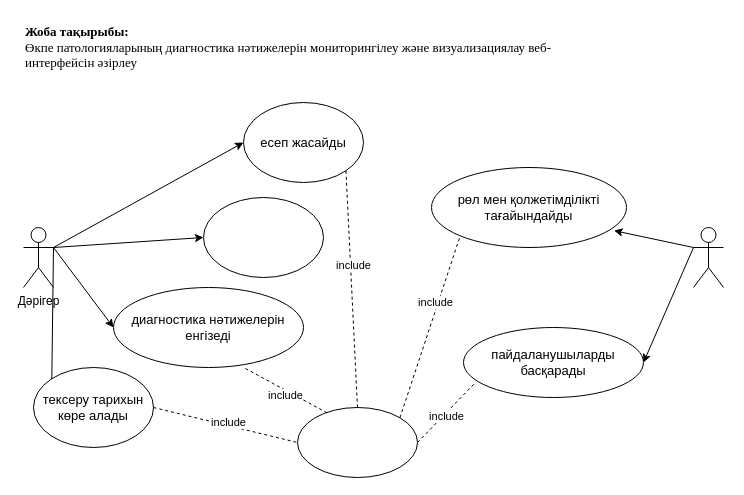
Image size: 744x495. Some labels were removed from this diagram. The box of each missing label's shape, as (x1, y1, x2, y2) in pixels:
Админ: (692, 226, 724, 288)
Жүйеге кіру: (296, 406, 418, 478)
статистиканы қарайды: (202, 196, 324, 278)
